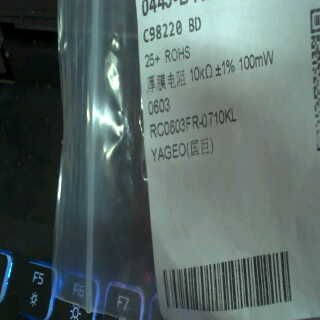10kR: (188, 63, 220, 83)
